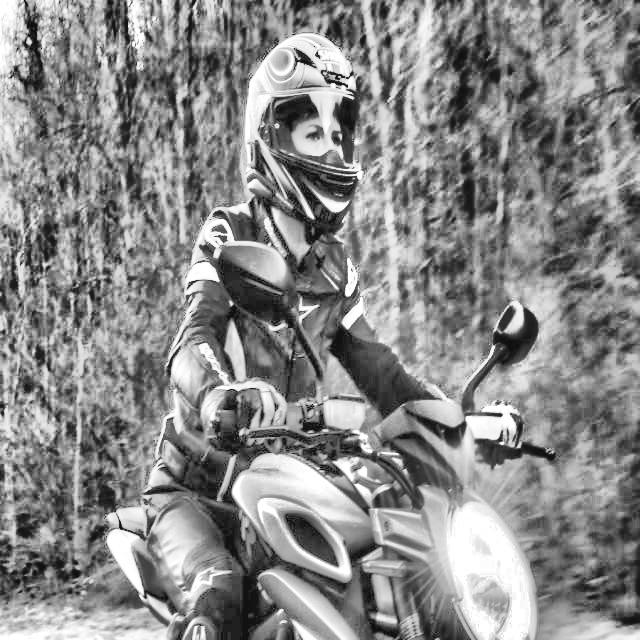Helmet: (240, 27, 364, 240)
